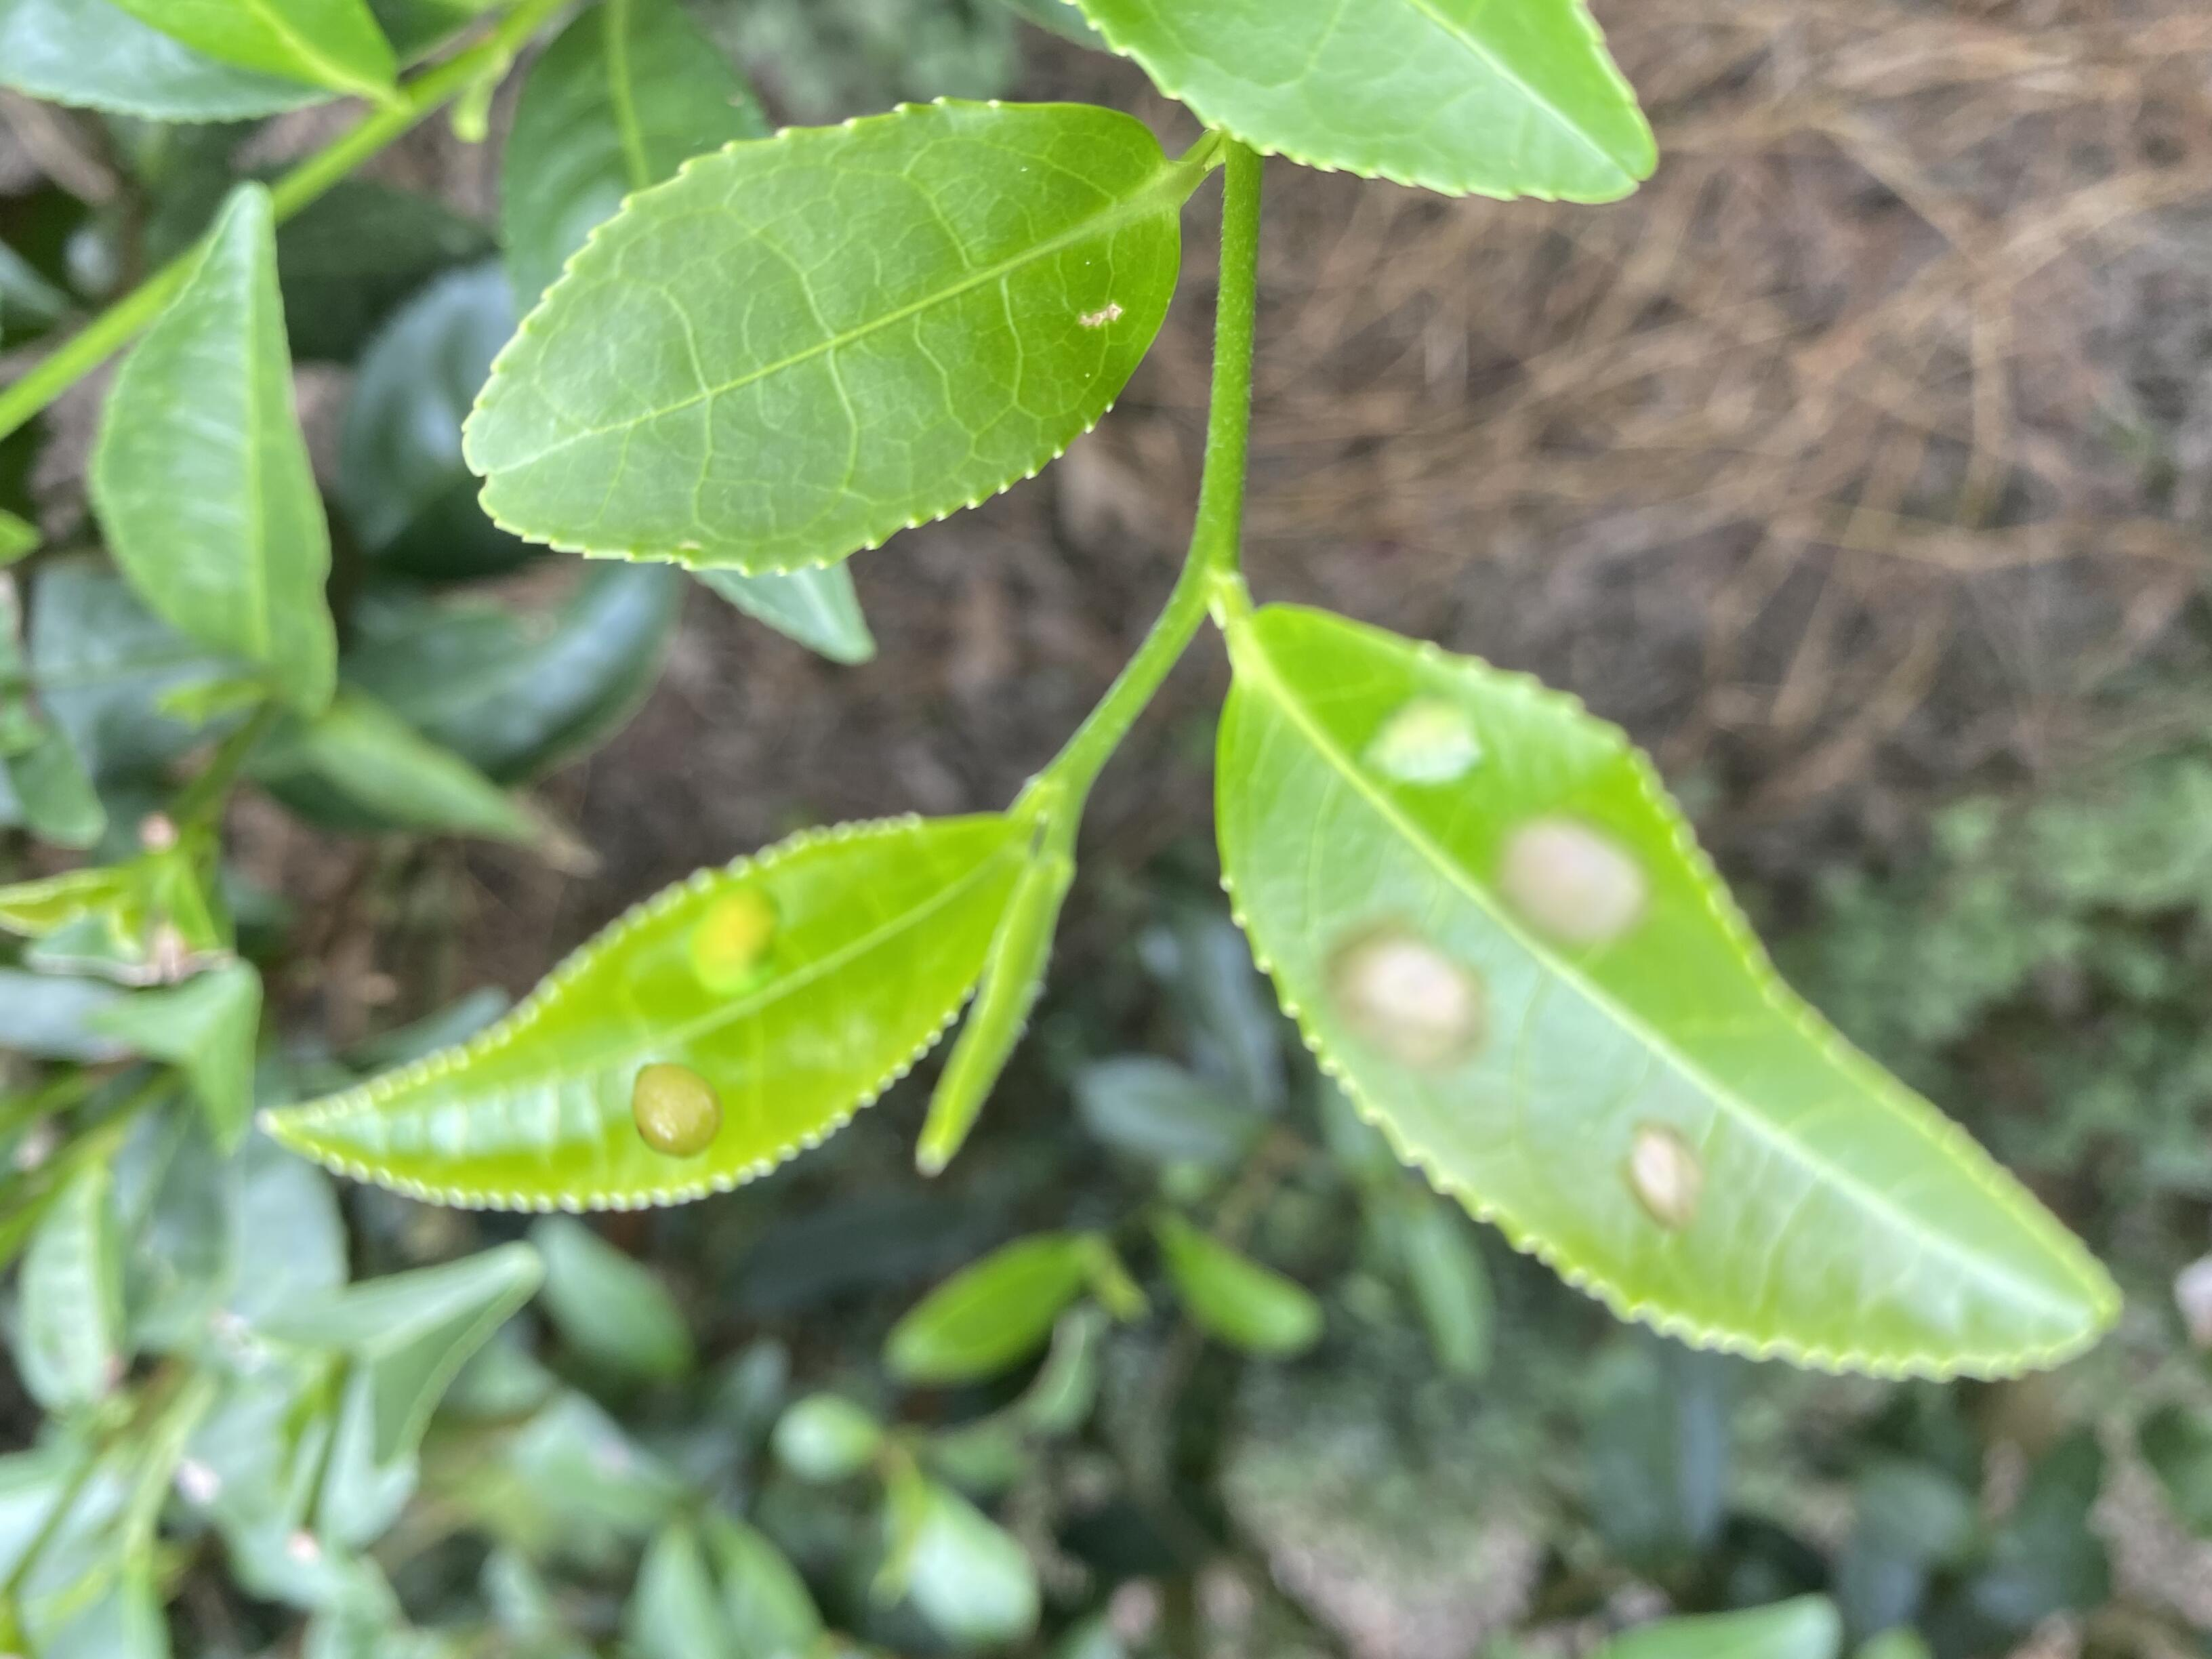chabing_high: (1209, 596, 2125, 1382), (263, 807, 1028, 1215)
healthy: (1071, 2, 1662, 207)
tanju_low: (458, 94, 1186, 577)
